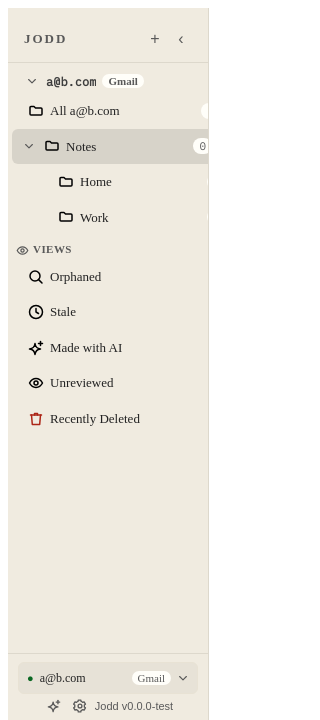
Test: folder context menu › opens Ask Jodd on the folder and its subfolders
The width and height of the screenshot is (320, 720).
Expected: the text titled "Work" is shown, [80,210,109,224]
Step 1. Right-click the button titled "Work" → point(66, 217), box [58,209,226,225]
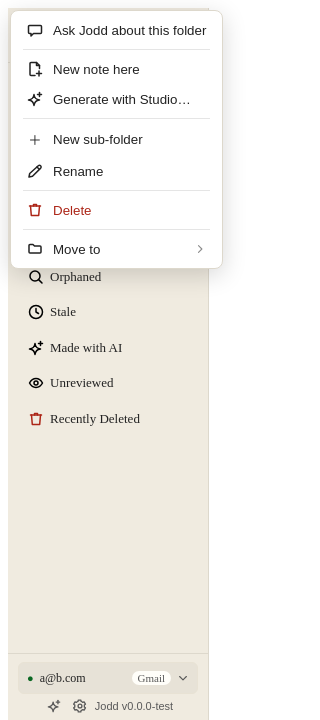
Step 2. Click the button "Ask Jodd about this folder" → point(117, 30), box [15,15,218,45]
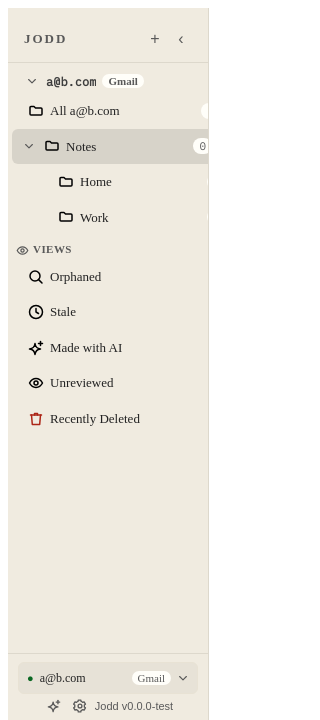
Now the menu with class "folder-menu" is gone
